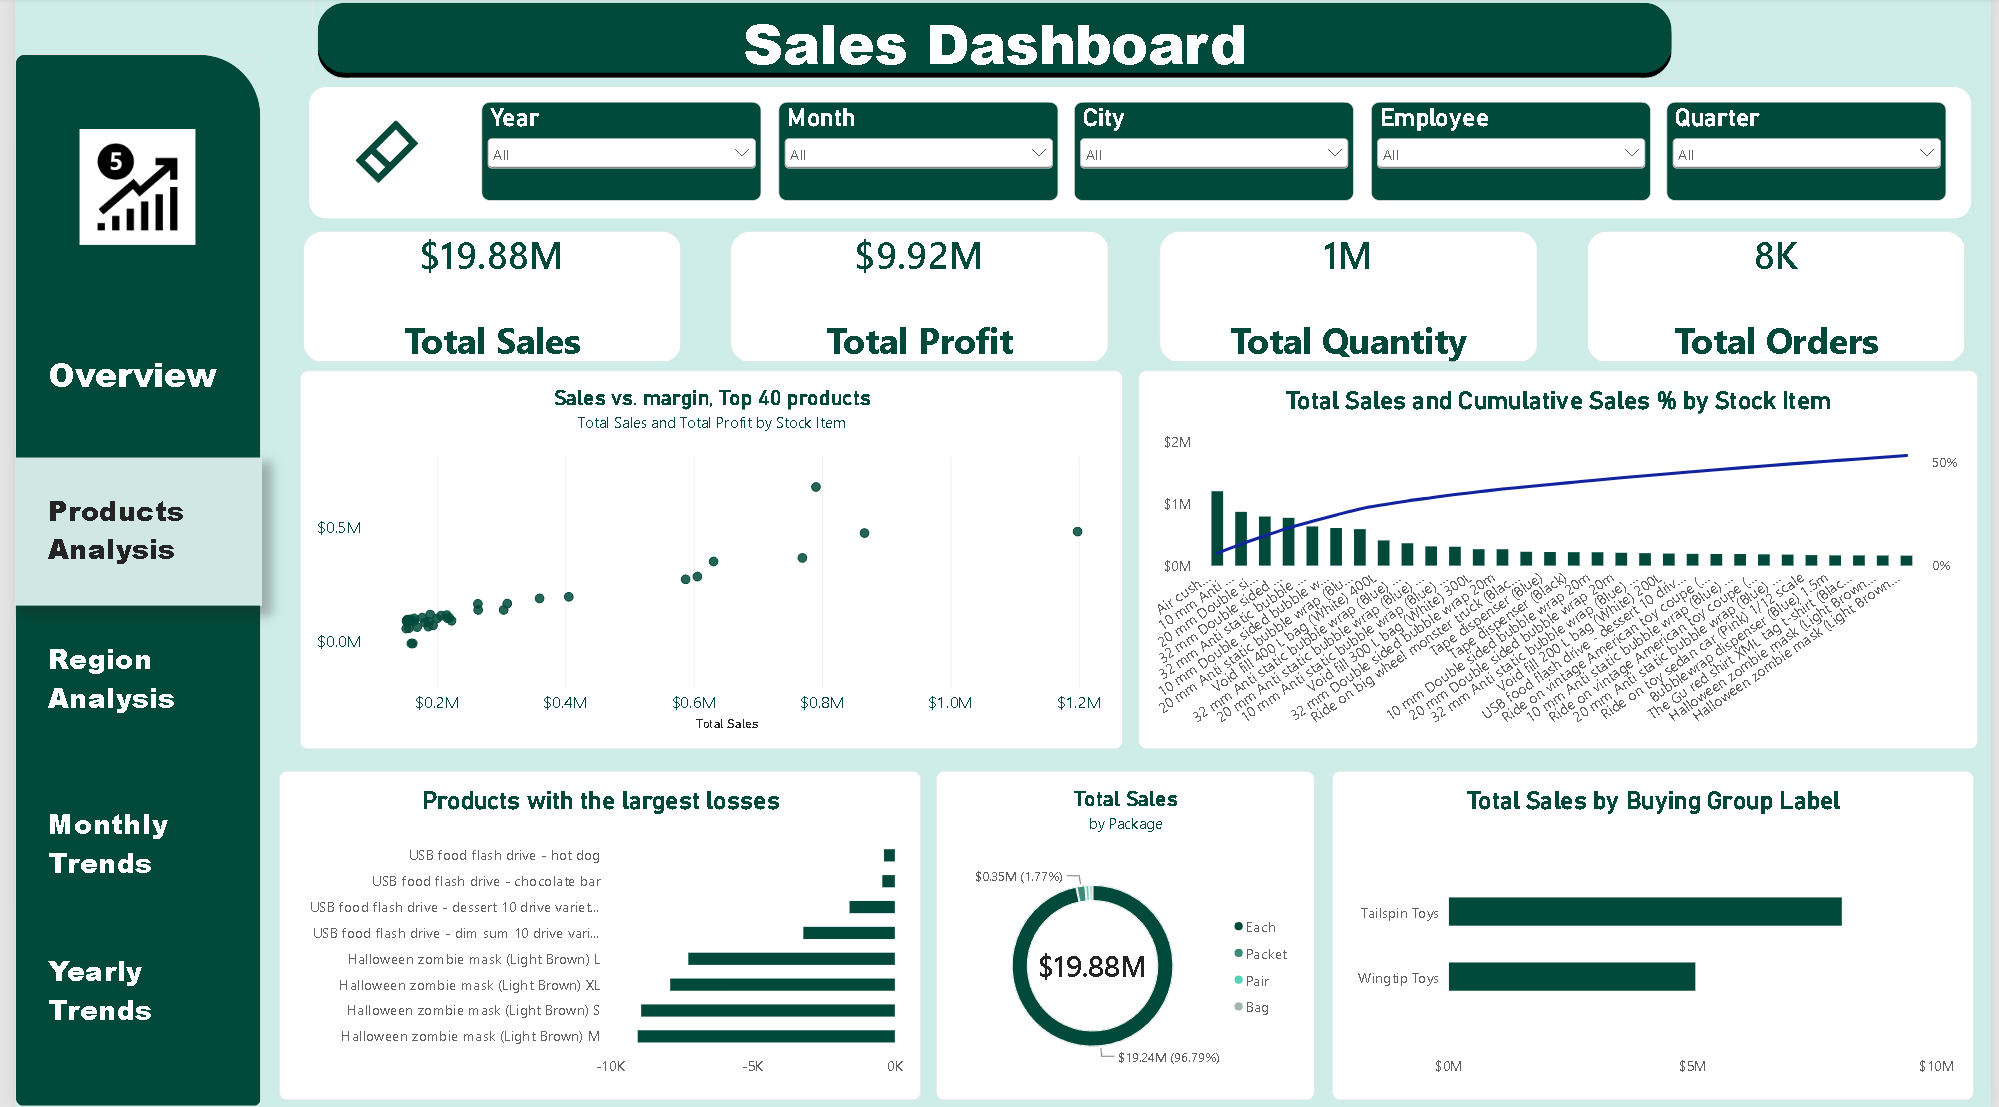

This screenshot's page, from the dashboard's own definition file:
{"tool":"powerbi","page":{"name":"Overview","canvas":[1920,1080],"ordinal":0},"visuals":[{"type":"cardVisual","fields":{"Data":["FactSale1.Total Sales"]},"box":[276.7,249.9,368,128],"z":0},{"type":"cardVisual","fields":{"Data":["FactSale1.Total Profit"]},"box":[692.7,249.9,368,128],"z":1000},{"type":"cardVisual","fields":{"Data":["FactSale1.Total Quantity"]},"box":[1108.7,249.9,368,128],"z":2000},{"type":"cardVisual","fields":{"Data":["FactSale1.Total Orders"]},"box":[1524.7,249.9,368,128],"z":3000},{"type":"shape","box":[273.3,109.3,1616,128],"z":4000},{"type":"slicer","fields":{"Values":["FactSale1.Delivery Date Key.Variation.Date Hierarchy.Year"]},"box":[441.8,124.7,272,96],"z":5000},{"type":"slicer","fields":{"Values":["FactSale1.Delivery Date Key.Variation.Date Hierarchy.Month"]},"box":[729.8,124.7,272,96],"z":6000},{"type":"slicer","fields":{"Values":["DimCity6.City"]},"box":[1017.8,124.7,272,96],"z":7000},{"type":"slicer","fields":{"Values":["DimEmployee3.Employee"]},"box":[1305.8,124.7,272,96],"z":8000},{"type":"slicer","fields":{"Values":["FactSale1.Delivery Date Key.Variation.Date Hierarchy.Quarter"]},"box":[1593.8,124.7,272,96],"z":9000},{"type":"shape","box":[288,0,1328,80],"z":10000},{"type":"shape","box":[0,55.6,239.9,1023.7],"z":11000},{"type":"actionButton","box":[289.3,125.3,112,96],"z":12000},{"type":"image","box":[32,128,173.8,113],"z":13000},{"type":"textbox","box":[32,480,208,96],"z":14000},{"type":"textbox","box":[32,624,208,96],"z":15000},{"type":"textbox","box":[32,784,208,96],"z":16000},{"type":"textbox","box":[16,848,234.6,99.1],"z":17000},{"type":"textbox","box":[32,928,208,112],"z":18000},{"type":"shape","box":[0,312.3,240,128],"z":19000},{"type":"textbox","box":[32,344.3,224,96],"z":20000},{"type":"lineChart","title":"Sales by Month","fields":{"Category":["DimDate4 (2).Date.Variation.Date Hierarchy.Year","DimDate4 (2).Date.Variation.Date Hierarchy.Month"],"Y":["FactSale1.Total Sales"]},"box":[272,400,800,336],"z":21000},{"type":"clusteredBarChart","fields":{"Category":["DimStockItem2.Stock Item"],"Y":["FactSale1.Total Sales"]},"box":[1088,400,816,336],"z":22000},{"type":"gauge","fields":{"Y":["FactSale1.Profit Margin %"]},"box":[272,752,800,320],"z":23000},{"type":"columnChart","fields":{"Category":["DimCity6.State Province"],"Y":["FactSale1.Total Sales"]},"box":[1088,752,816,320],"z":24000}]}

Visuals, with their boxes in screenshot pixels (x1, y1, x2, y2), scaled from the page's 1920x1080 canvas onto the 1999x1107 screenshot:
cardVisual - FactSale1.Total Sales: 288,256,671,387
cardVisual - FactSale1.Total Profit: 721,256,1104,387
cardVisual - FactSale1.Total Quantity: 1154,256,1537,387
cardVisual - FactSale1.Total Orders: 1587,256,1971,387
shape: 285,112,1967,243
slicer - FactSale1.Delivery Date Key.Variation.Date Hierarchy.Year: 460,128,743,226
slicer - FactSale1.Delivery Date Key.Variation.Date Hierarchy.Month: 760,128,1043,226
slicer - DimCity6.City: 1060,128,1343,226
slicer - DimEmployee3.Employee: 1360,128,1643,226
slicer - FactSale1.Delivery Date Key.Variation.Date Hierarchy.Quarter: 1659,128,1943,226
shape: 300,0,1682,82
shape: 0,57,250,1106
actionButton: 301,128,418,227
image: 33,131,214,247
textbox: 33,492,250,590
textbox: 33,640,250,738
textbox: 33,804,250,902
textbox: 17,869,261,971
textbox: 33,951,250,1066
shape: 0,320,250,451
textbox: 33,353,267,451
"Sales by Month" lineChart: 283,410,1116,754
clusteredBarChart - DimStockItem2.Stock Item x FactSale1.Total Sales: 1133,410,1982,754
gauge - FactSale1.Profit Margin %: 283,771,1116,1099
columnChart - DimCity6.State Province x FactSale1.Total Sales: 1133,771,1982,1099
